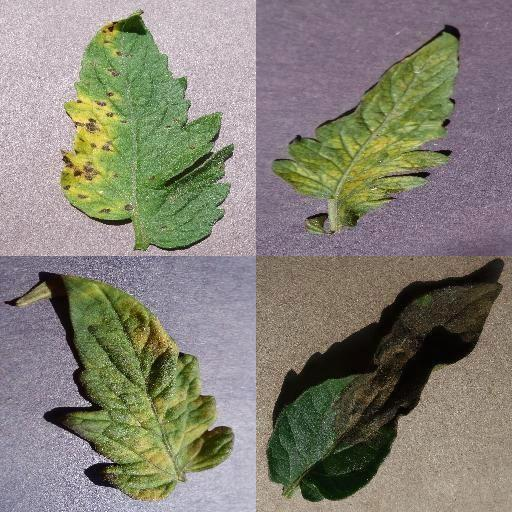Late Blight: (265, 281, 503, 501)
Leaf Mold: (66, 273, 236, 503)
Mosaic Virus: (269, 29, 461, 205)
Septoria: (60, 10, 235, 252)
